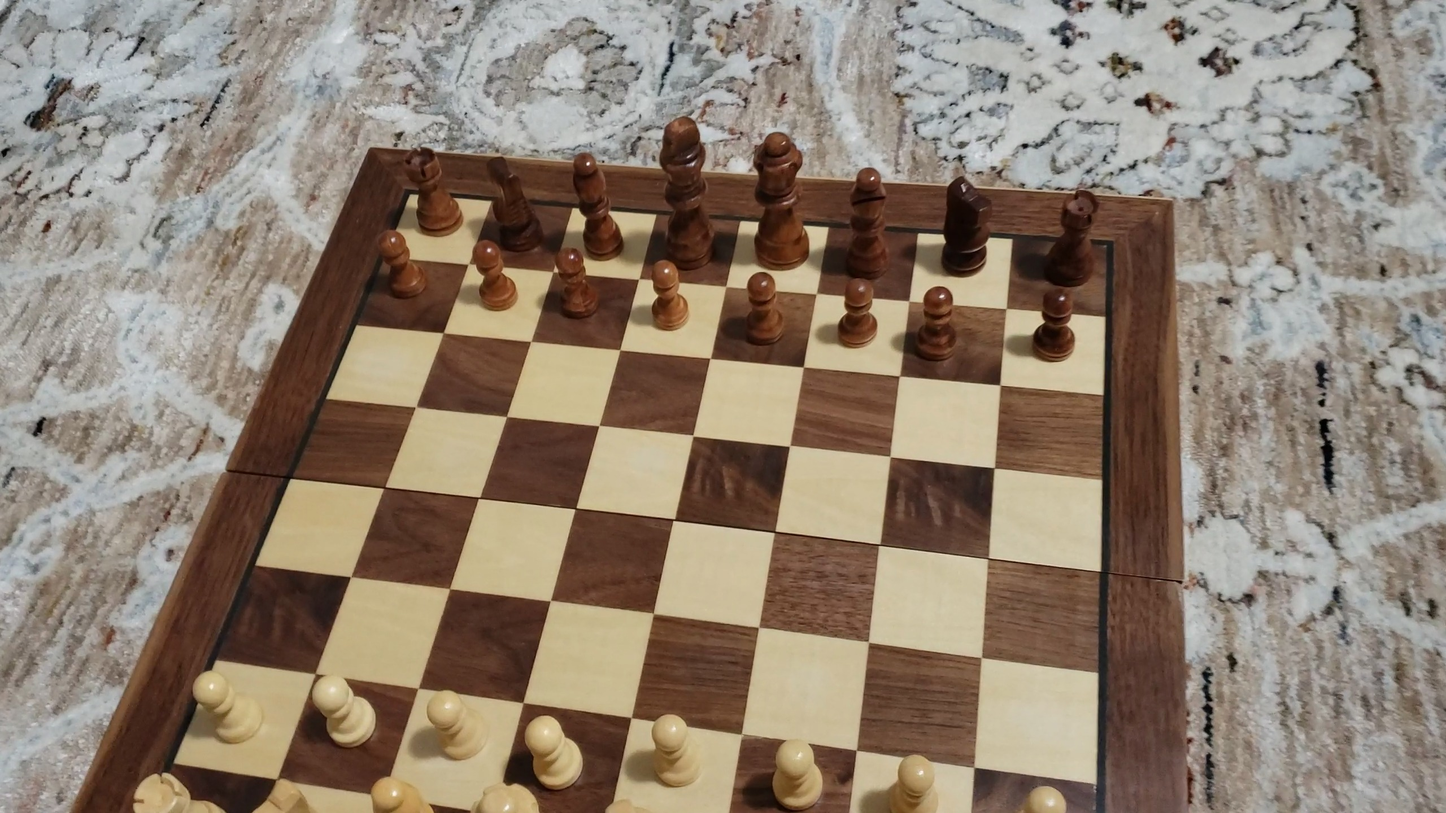black-bishop: (658, 111, 715, 271), (570, 148, 624, 260), (847, 164, 891, 281)
black-knight: (484, 152, 542, 253), (940, 171, 992, 276)
black-pawn: (376, 228, 426, 301), (553, 246, 600, 321), (1031, 288, 1077, 364), (743, 269, 786, 348), (916, 283, 957, 365), (473, 239, 516, 313), (649, 256, 689, 333), (838, 277, 879, 350)
black-queen: (750, 128, 809, 270)
black-rook: (404, 142, 465, 239), (1042, 187, 1100, 288)
white-pawn: (187, 667, 269, 748), (306, 672, 381, 752), (420, 687, 490, 764), (522, 713, 587, 793), (646, 710, 708, 792), (765, 733, 829, 812)
